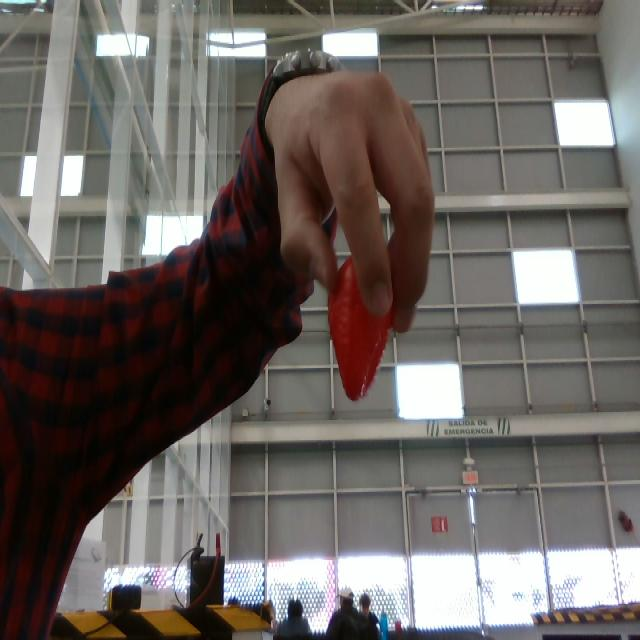grande_roja: (329, 257, 389, 400)
